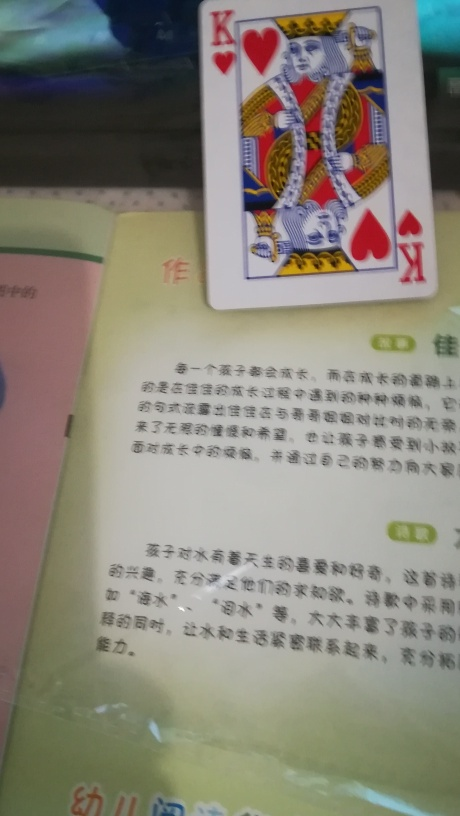hx k: (200, 6, 443, 314)
